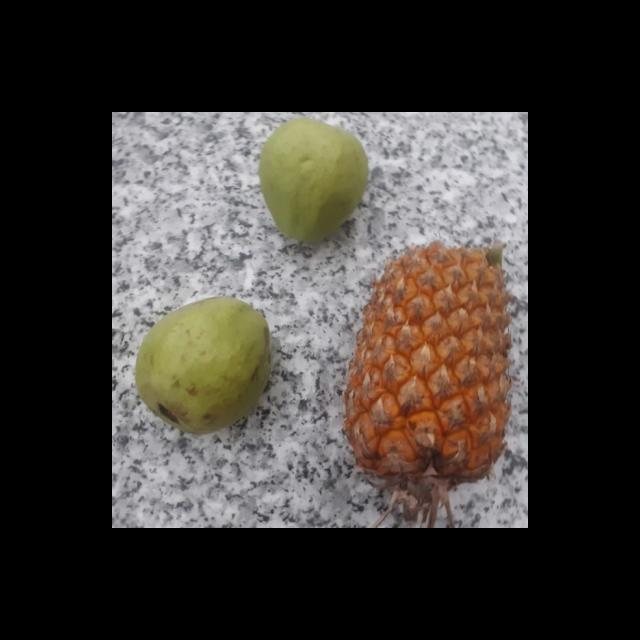guava: (139, 298, 279, 429), (257, 117, 373, 240)
pineapple: (344, 235, 516, 498)
